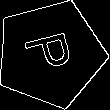P_E: (20, 30, 80, 78)
